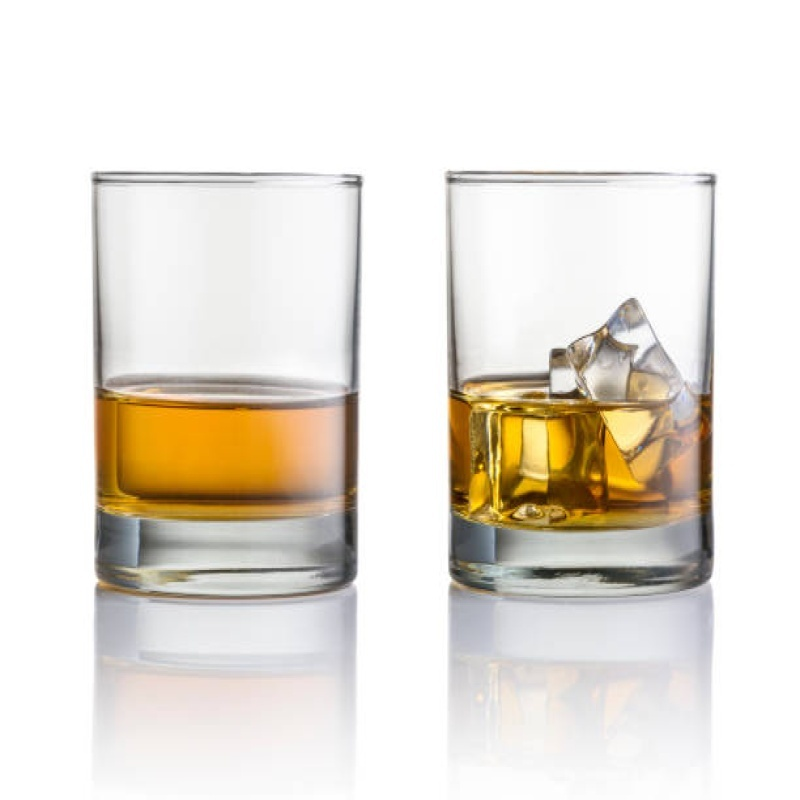whiskey: (87, 169, 367, 600), (449, 170, 710, 597)
